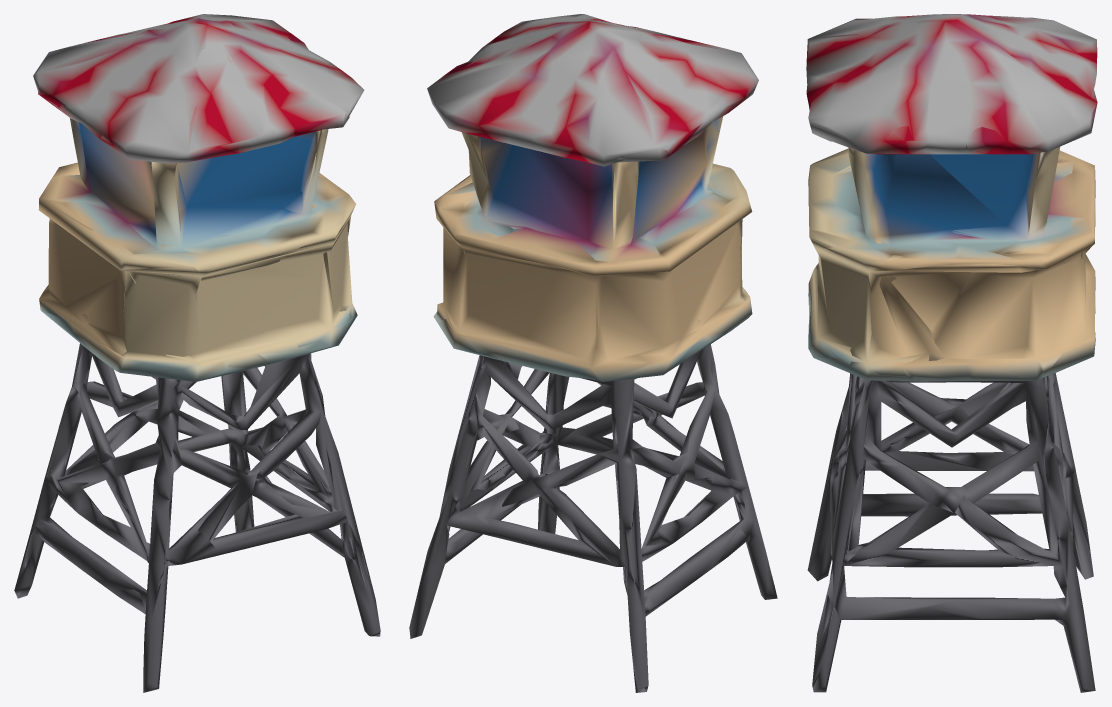
File: gen3d-lifeguard-tower-lod0.glb
3 renders of one model, left to right at view 1: azimuth 30°, elevation 25°; view 2: azimuth 150°, elevation 25°; view 3: azimuth 270°, elevation 25°, orthographic. The views are drawn at different scales.
Visible parts, largest first — view 1: part_0; view 2: part_0; view 3: part_0.
Part boxes in pixels (x1=…): part_0: x1=14, y1=14, x2=380, y2=692; part_0: x1=409, y1=14, x2=777, y2=692; part_0: x1=806, y1=14, x2=1097, y2=692.
Bounding box in the file's own units: 0.4269 × 0.9968 × 0.4267.
